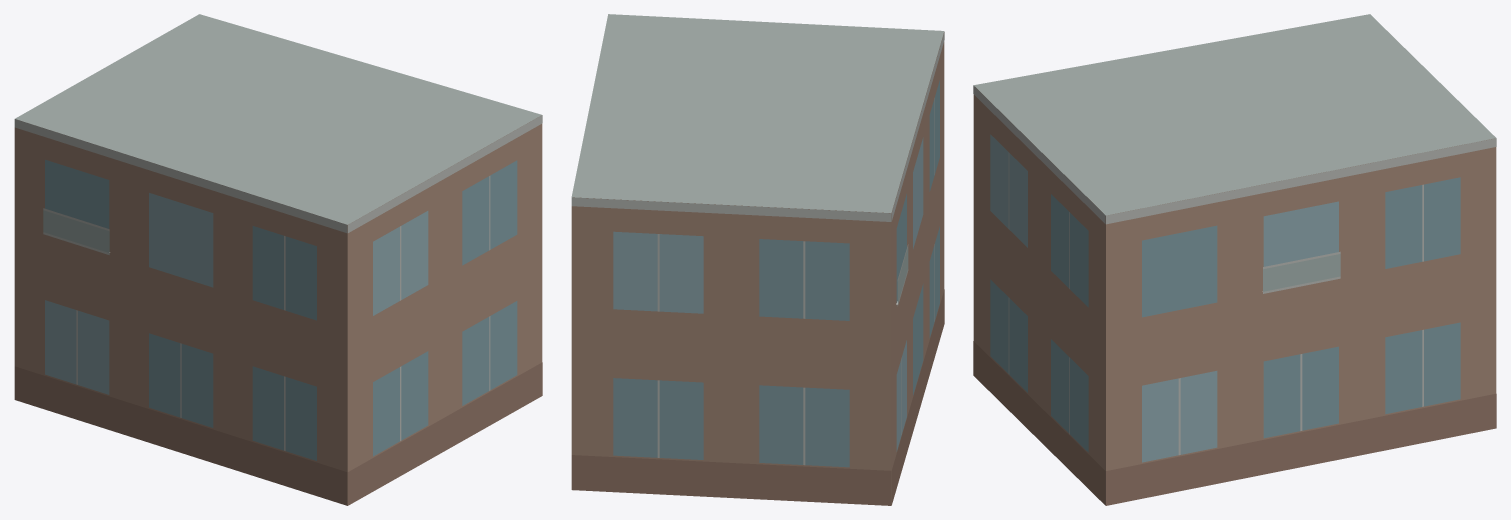
Rendered from survey-upis-32810498.glb.
3 renders of one model, left to right at view 1: azimuth 30°, elevation 25°; view 2: azimuth 150°, elevation 25°; view 3: azimuth 270°, elevation 25°, orthographic. The views are drawn at different scales.
Visible parts, largest first — view 1: survey-upis-32810498.tmp; view 2: survey-upis-32810498.tmp; view 3: survey-upis-32810498.tmp.
Boxes of the visible parts, x1,y1,x2,y2 form: survey-upis-32810498.tmp: (14, 14, 542, 505); survey-upis-32810498.tmp: (571, 14, 944, 505); survey-upis-32810498.tmp: (973, 14, 1496, 505).
Bounding box in the file's own units: 11.92 × 8 × 13.07.
